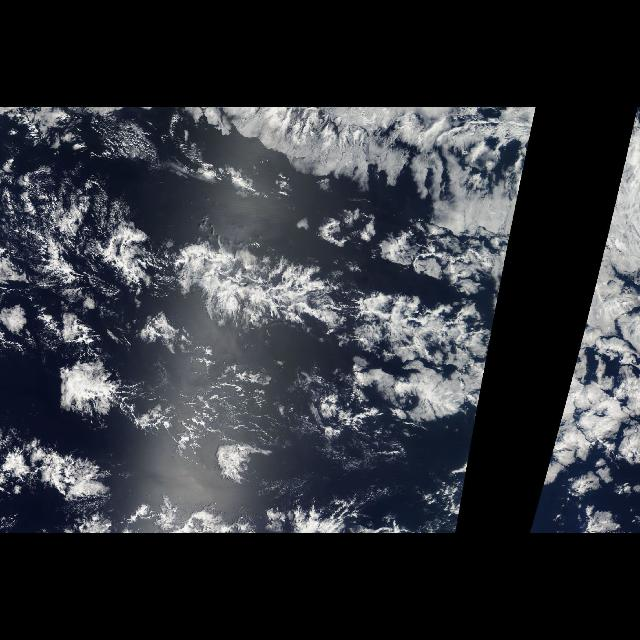Fish: (99, 109, 512, 414)
Flower: (0, 292, 264, 508)
